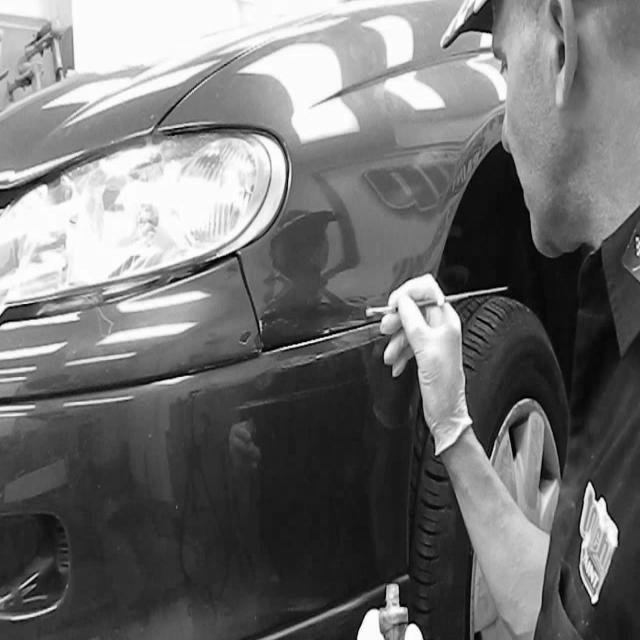scratch: (235, 373, 369, 414), (282, 333, 384, 369), (237, 328, 263, 357)
